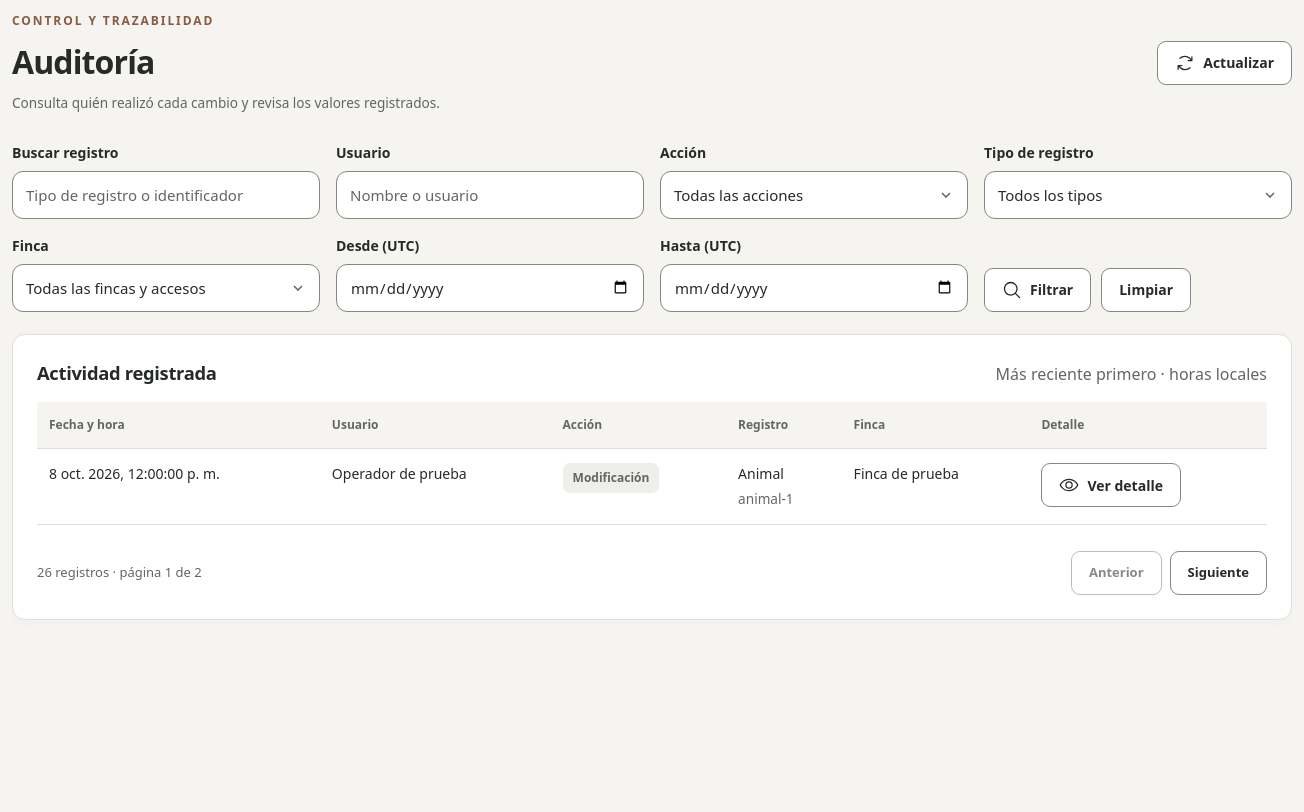
Test: rejects reversed dates locally and does not send them to the API
Check: the table named "Eventos de auditoría" is shown, box [37,402,1267,525]
In the date field labelled "Desde (UTC)": [490, 288] box [336,264,644,312], type "2026-10-08"
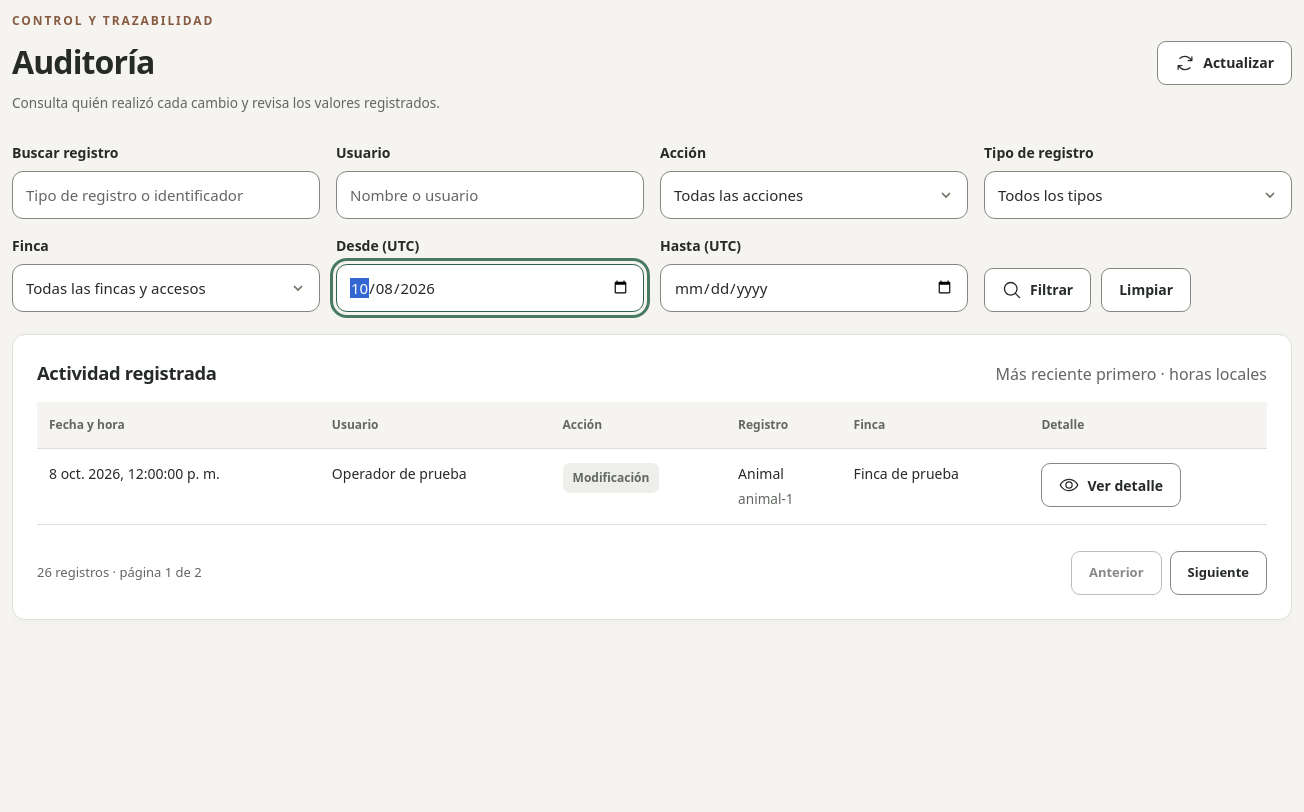
In the date field labelled "Hasta (UTC)": [814, 288] box [660,264,968,312], type "2026-10-01"
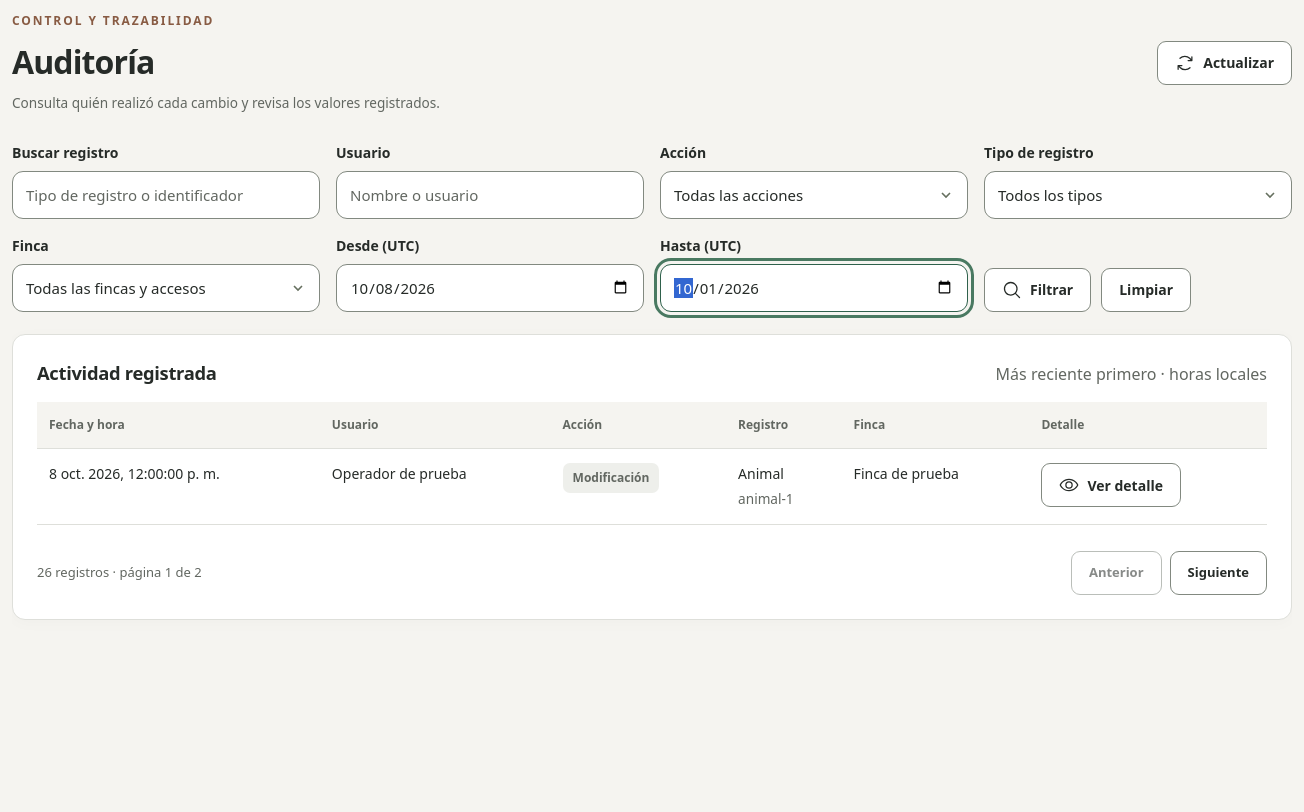
Click the button "Filtrar": [1038, 290] box [984,268,1091,312]
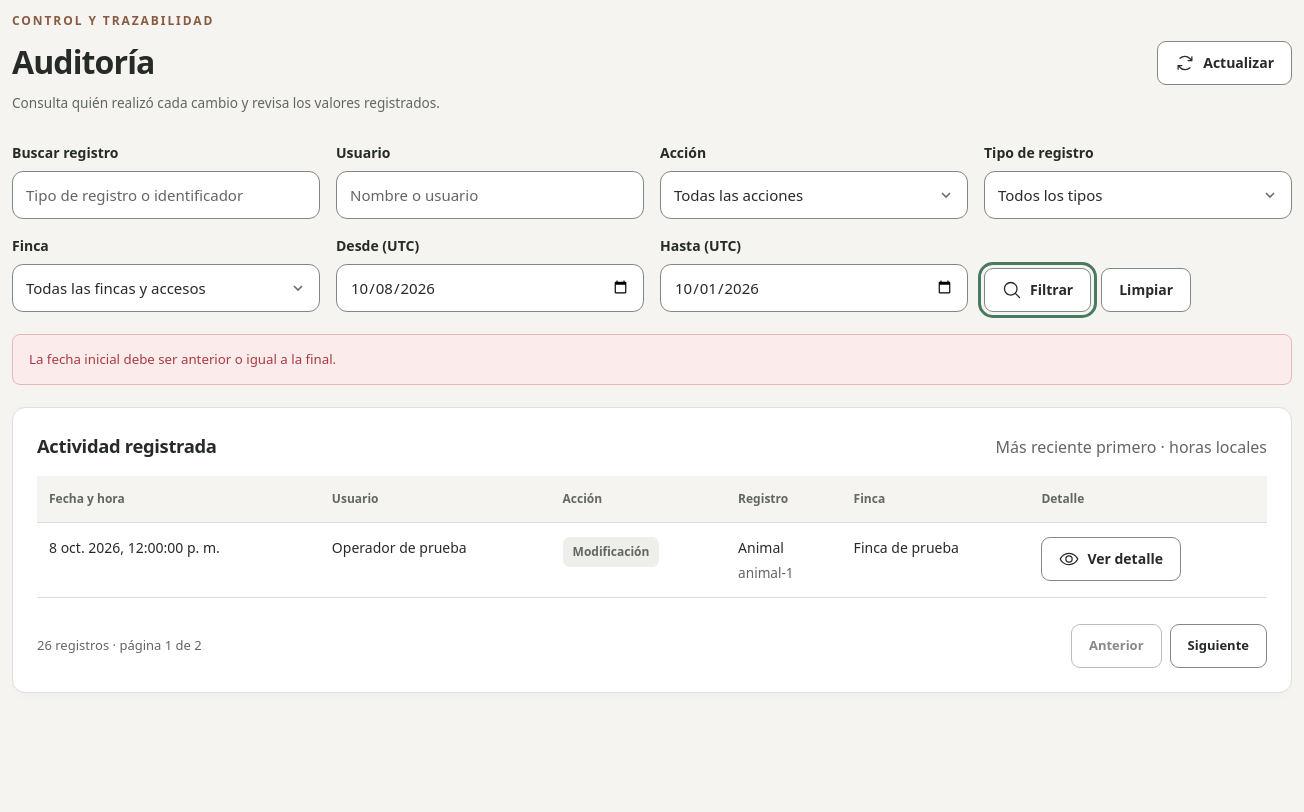
Check: the message shows "fecha inicial", box [29,350,336,368]
